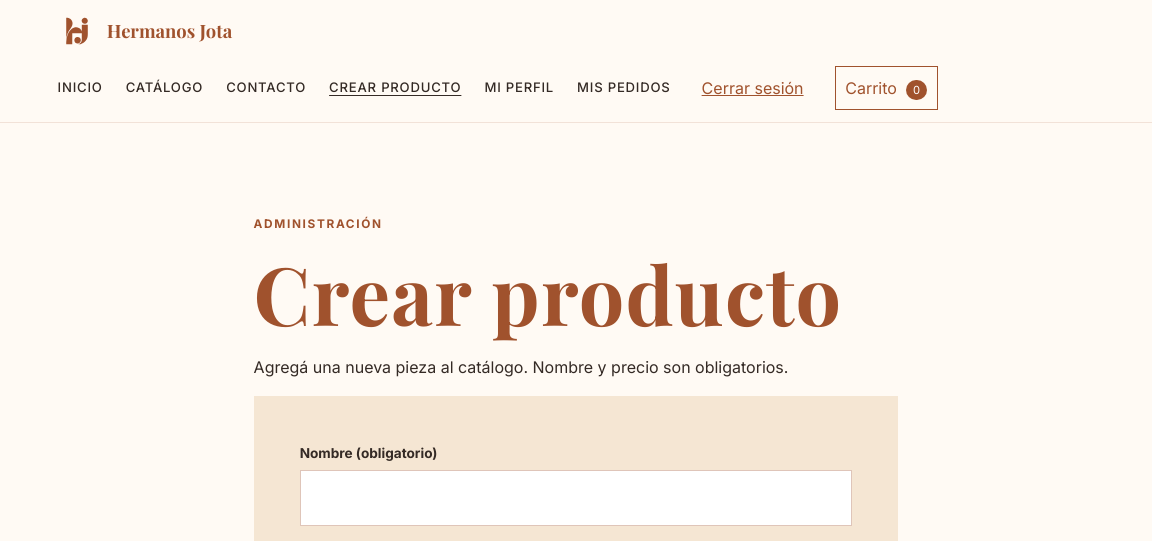
Test case: alta rechaza datos inválidos sin enviar POST: {"nombre":"","precio":"10","stock":""}
Expected: the heading "Crear producto" is shown, 254,249 -> 898,338
Clear the field labelled "Nombre (obligatorio)". click: {"x": 576, "y": 498}
box: 300,470 -> 852,526
(page scrolled)
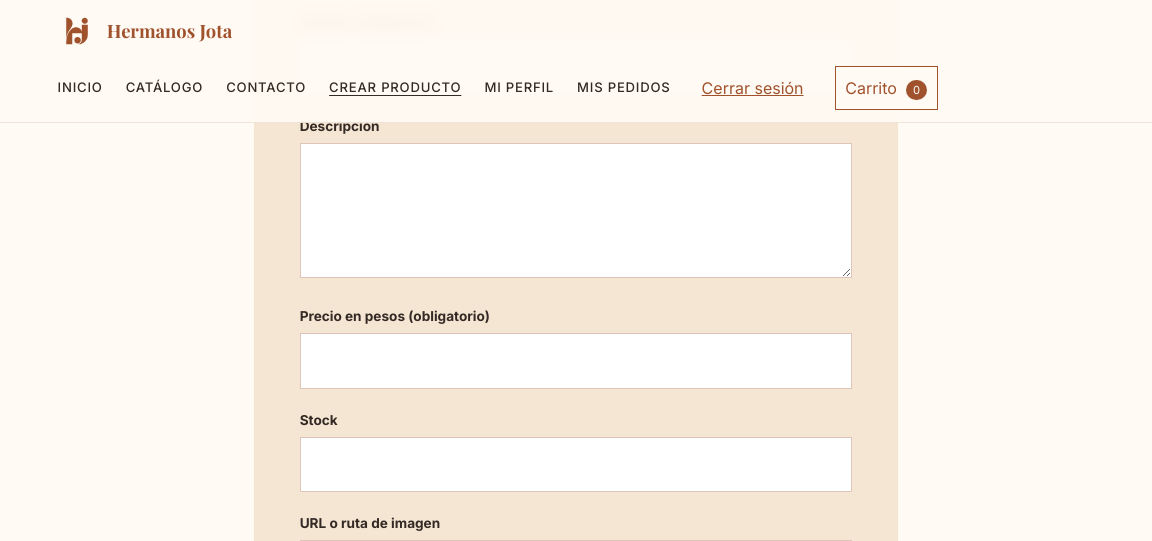
Type "10" into the number field labelled "Precio en pesos (obligatorio)". click: {"x": 576, "y": 361}
box: 300,333 -> 852,389
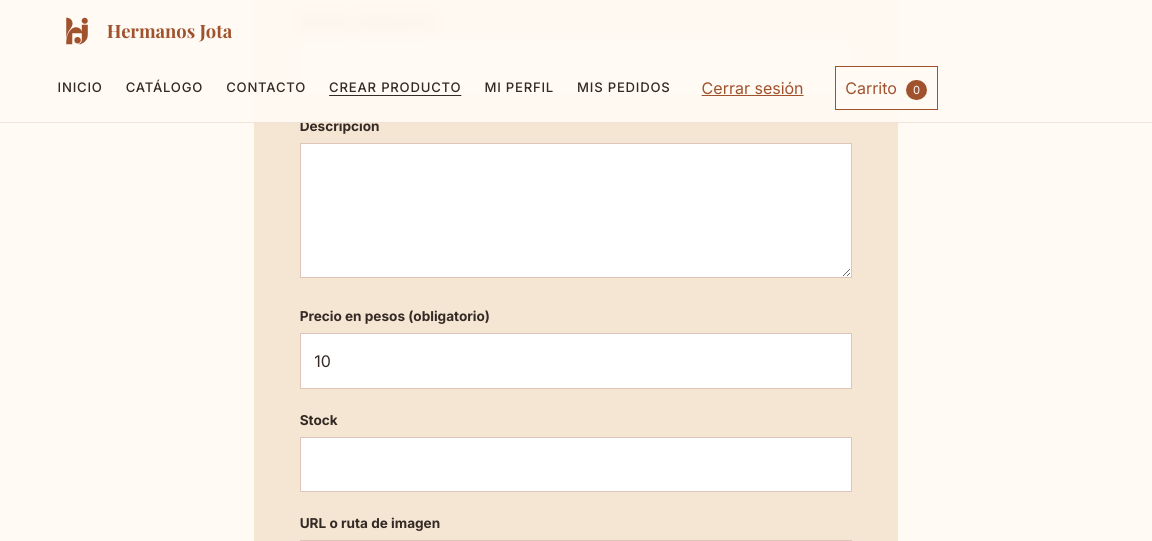
Clear the number field labelled "Stock". click: {"x": 576, "y": 464}
box: 300,437 -> 852,492
(page scrolled)
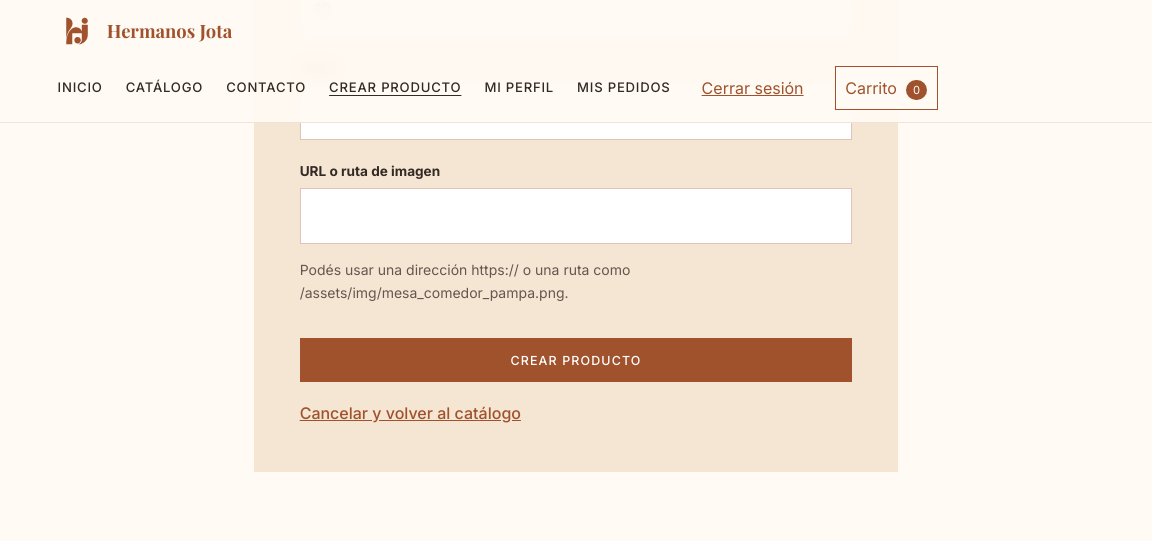
Click the button "Crear producto". click: {"x": 576, "y": 360}
box: 300,338 -> 852,382
(page scrolled)
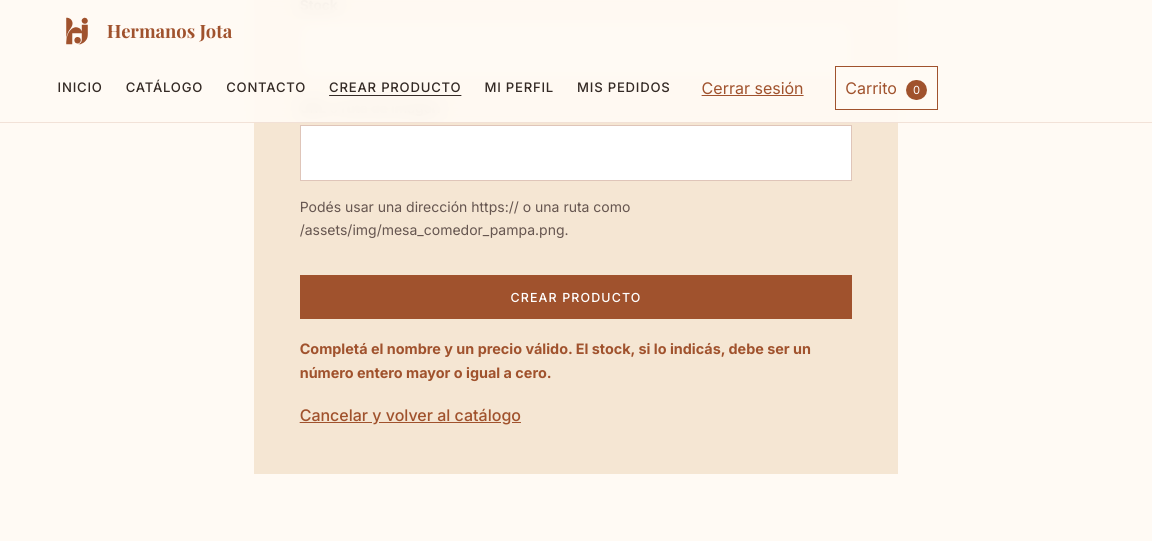
Now the message is shown, box 300,337 -> 852,384
